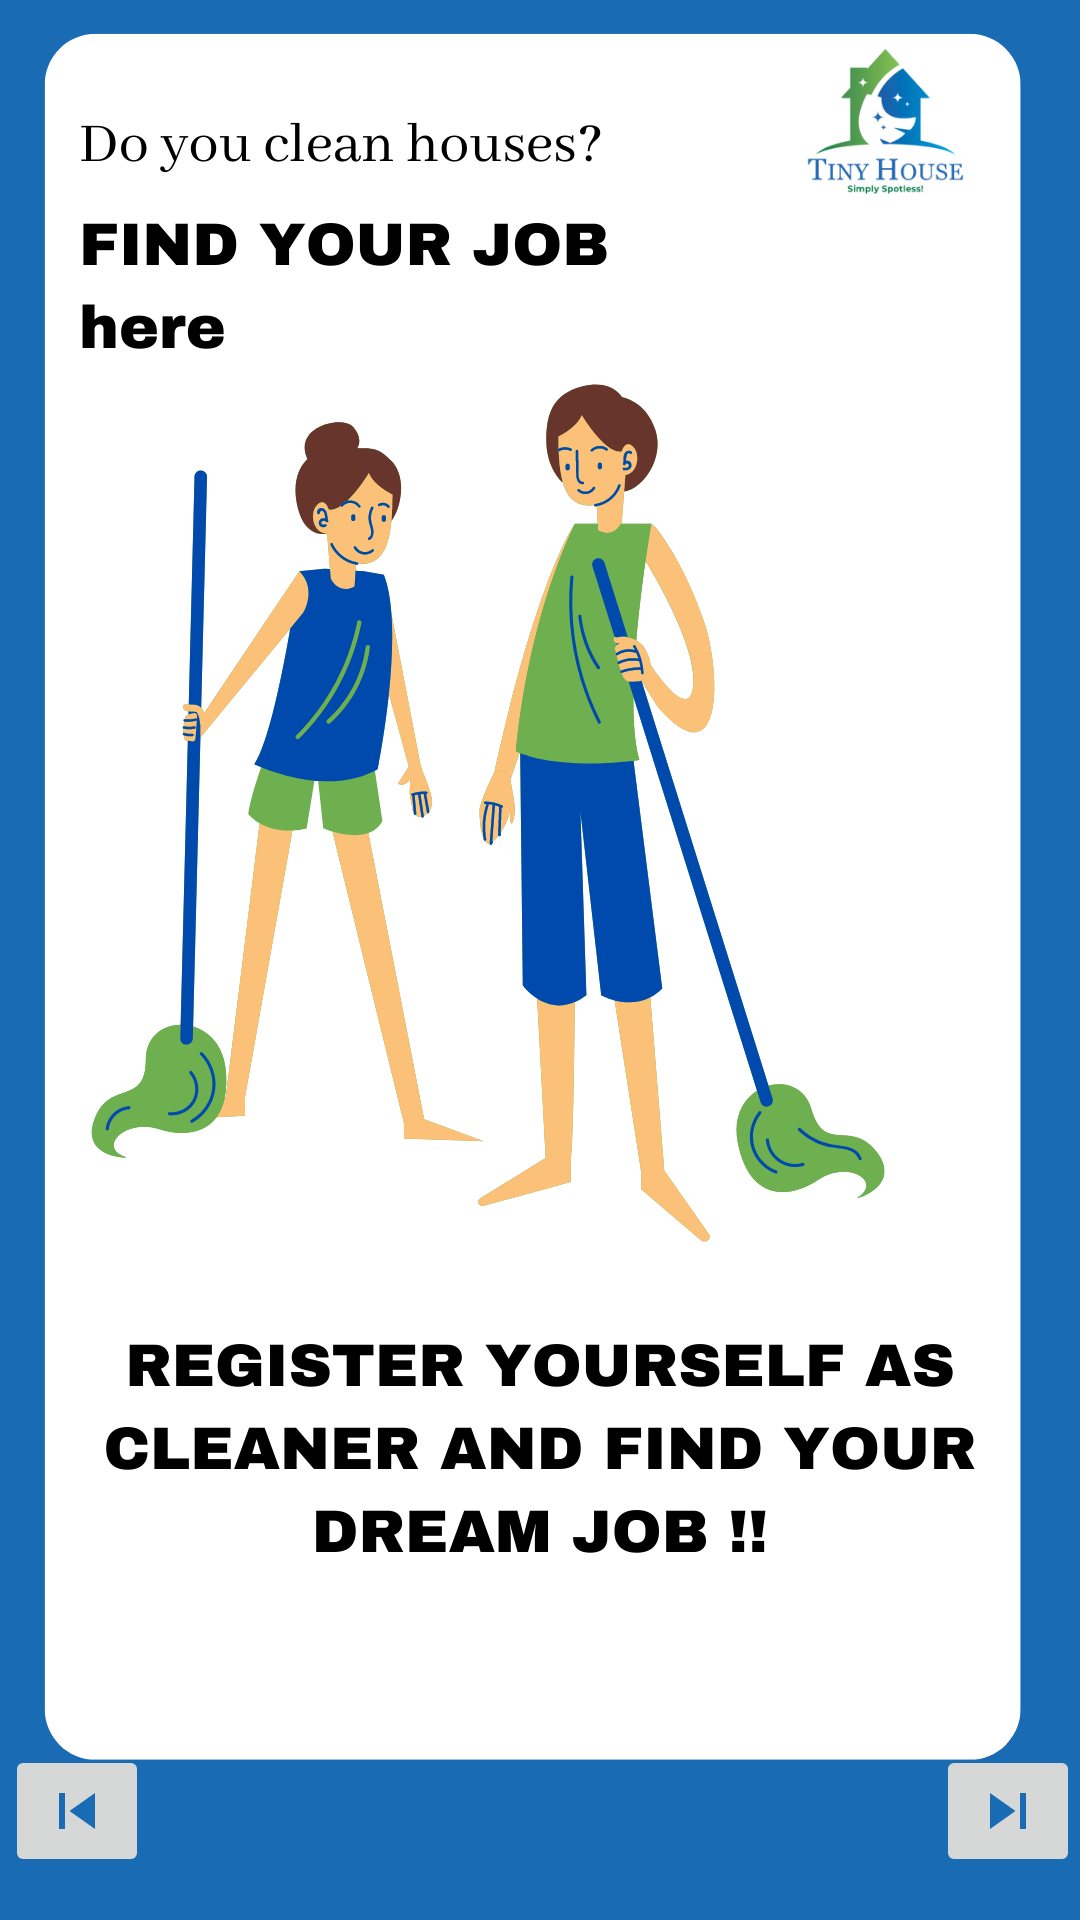

Icon click points for this 1080×1920 phone screenshot, format (x,y):
skip next: (1008,1811)
skip previous: (77,1811)
